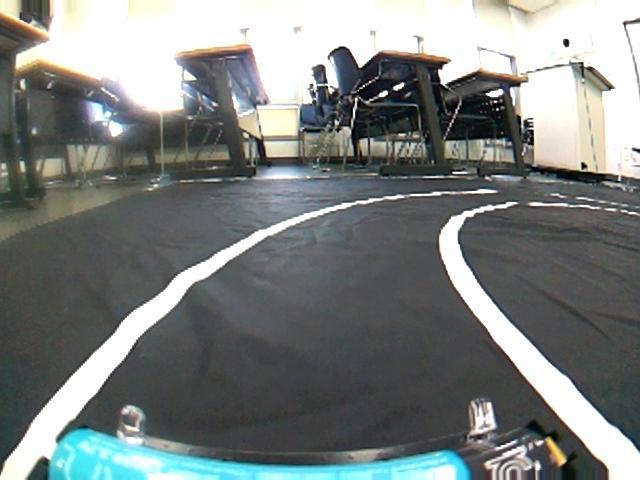straight: (0, 266, 640, 479)
